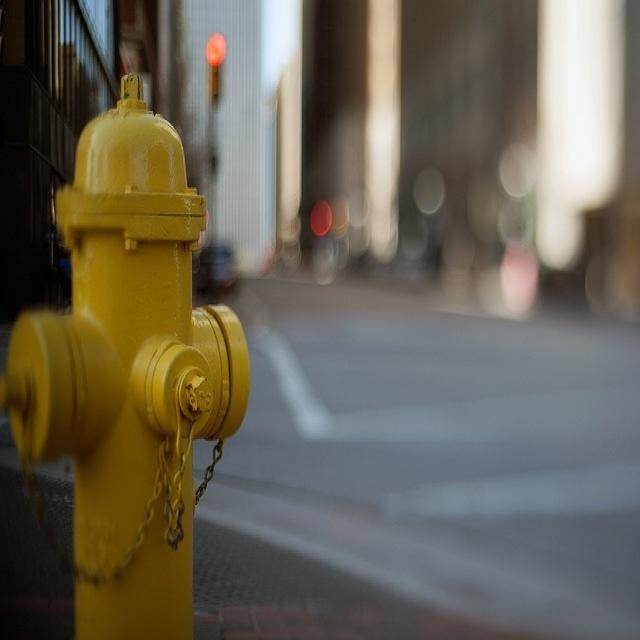fire_hydrant: (25, 78, 245, 635)
